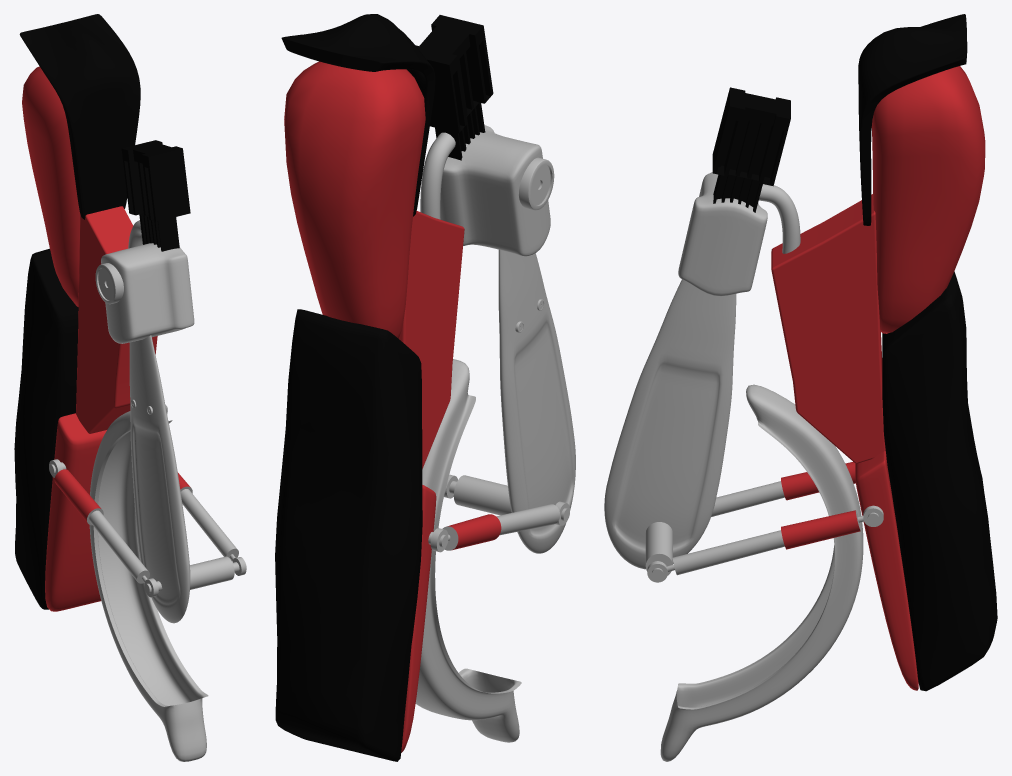
File: BIKE BEHIND.fbx
3 views of the same model, side by side, from view 1: azimuth 30°, elevation 25°; view 2: azimuth 150°, elevation 25°; view 3: azimuth 270°, elevation 25° (orthographic). The views are drawn at different scales.
Visible parts, largest first — view 1: Sphere.001; view 2: Sphere.001; view 3: Sphere.001.
Part boxes in pixels (x1,y1,x2,y2): Sphere.001: [14, 14, 246, 761]; Sphere.001: [275, 14, 575, 761]; Sphere.001: [604, 14, 997, 761].
Size of the model in its own units: 29.81 by 163 by 79.76.
